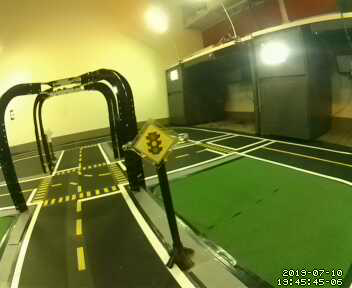Traffic light sign: (131, 119, 179, 168)
